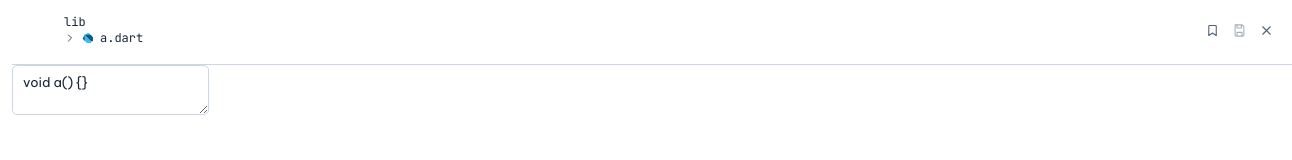
EditorTab › nút Lưu báo tiến độ rồi báo đã lưu theo phiên bản trả về
Type "!" into the text box named "editor" at point(110, 90), box [12, 65, 209, 115]
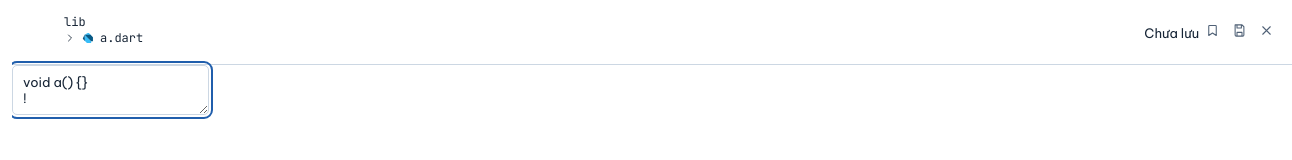
Expected: the text "Chưa lưu" is shown, [1144, 24, 1199, 40]
Click the button named "Lưu" at point(1240, 30), box [1226, 16, 1253, 44]
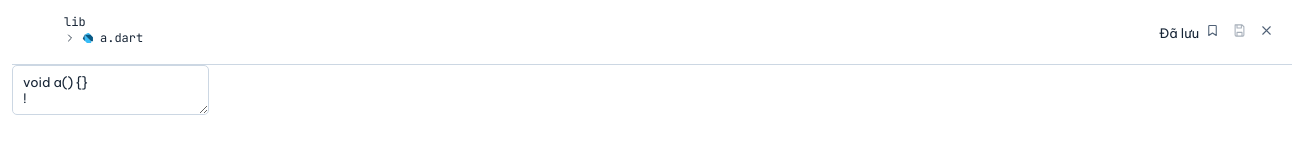
Expected: the text "Đã lưu" is shown, [1159, 24, 1199, 40]
Expected: the button named "Lưu" is disabled, [1226, 16, 1253, 44]
